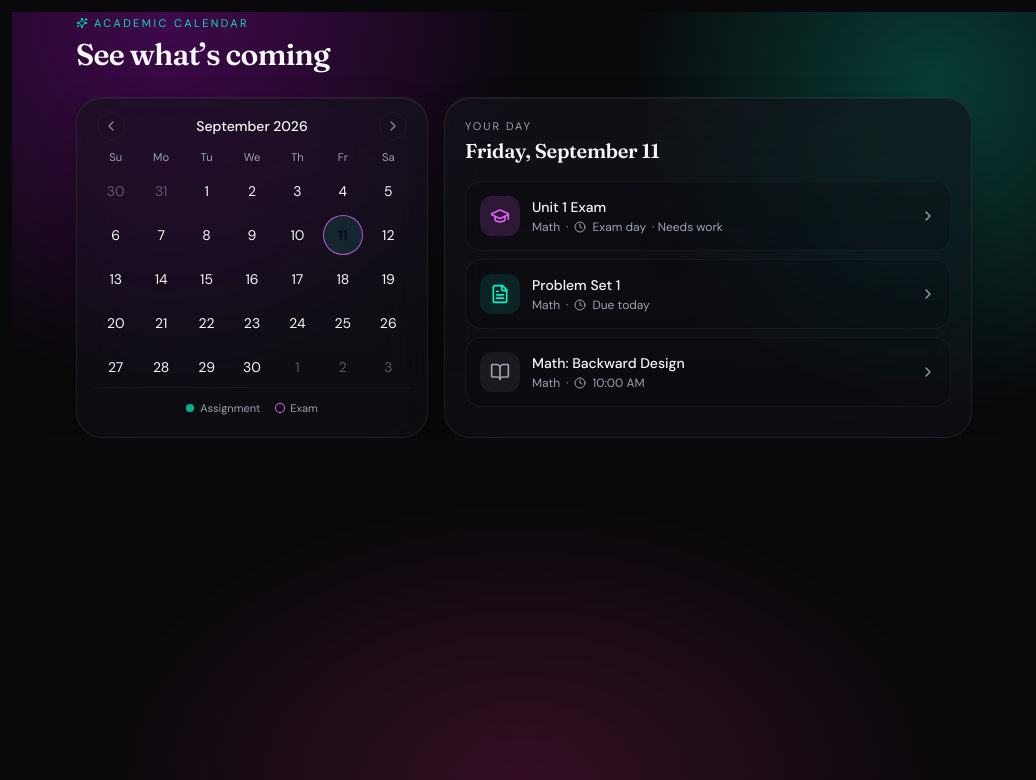
real academic calendar › opens the exact exam study target instead of a mixed class review
Step 1. Click the button with aria-label "study for unit 1 exam" → (708, 216), box x1=465 y1=181 x2=951 y2=251
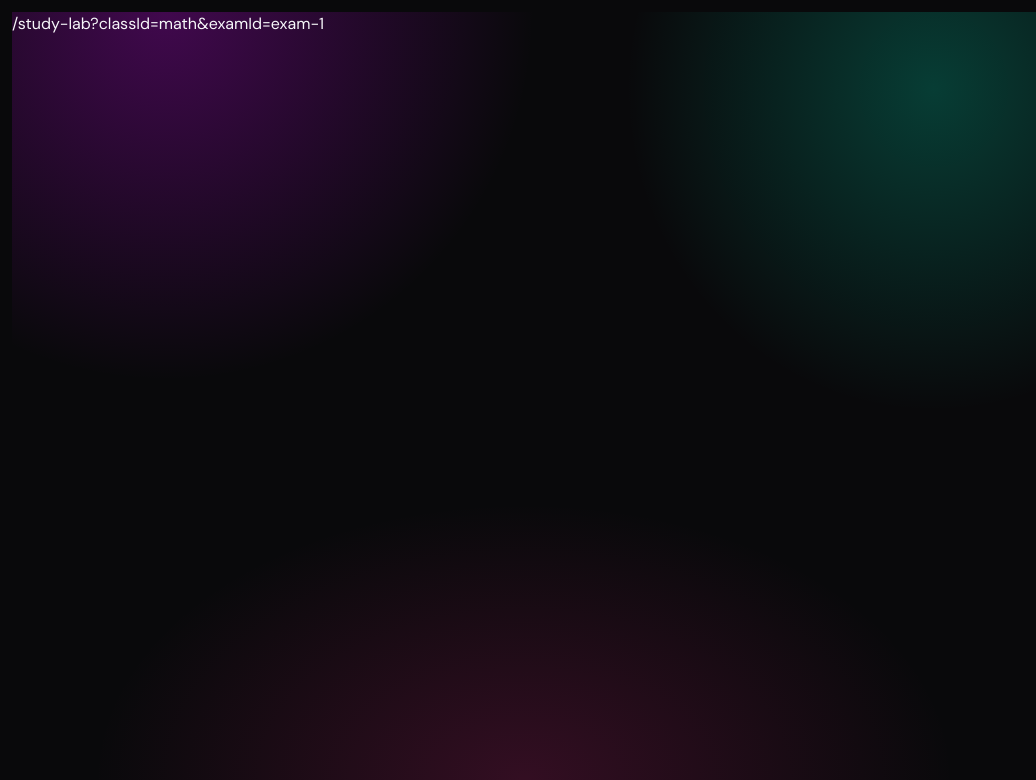
Check: the text "/study-lab?classId=math&examId=exam-1" is shown, box x1=12 y1=13 x2=324 y2=34
